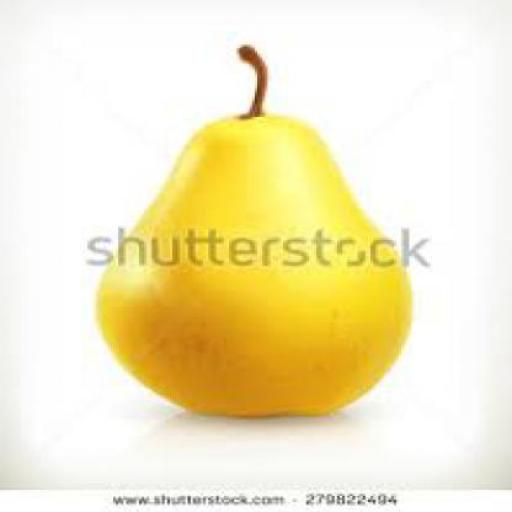biodegradable: (92, 42, 415, 417)
